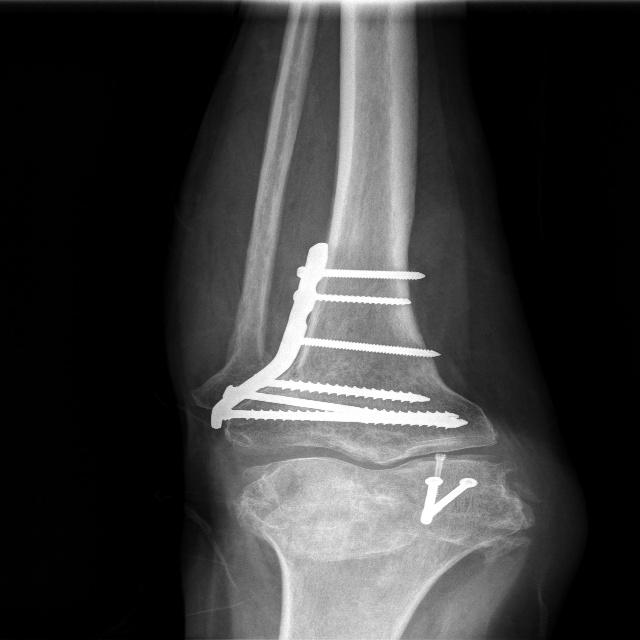Knee: (220, 355, 534, 589)
